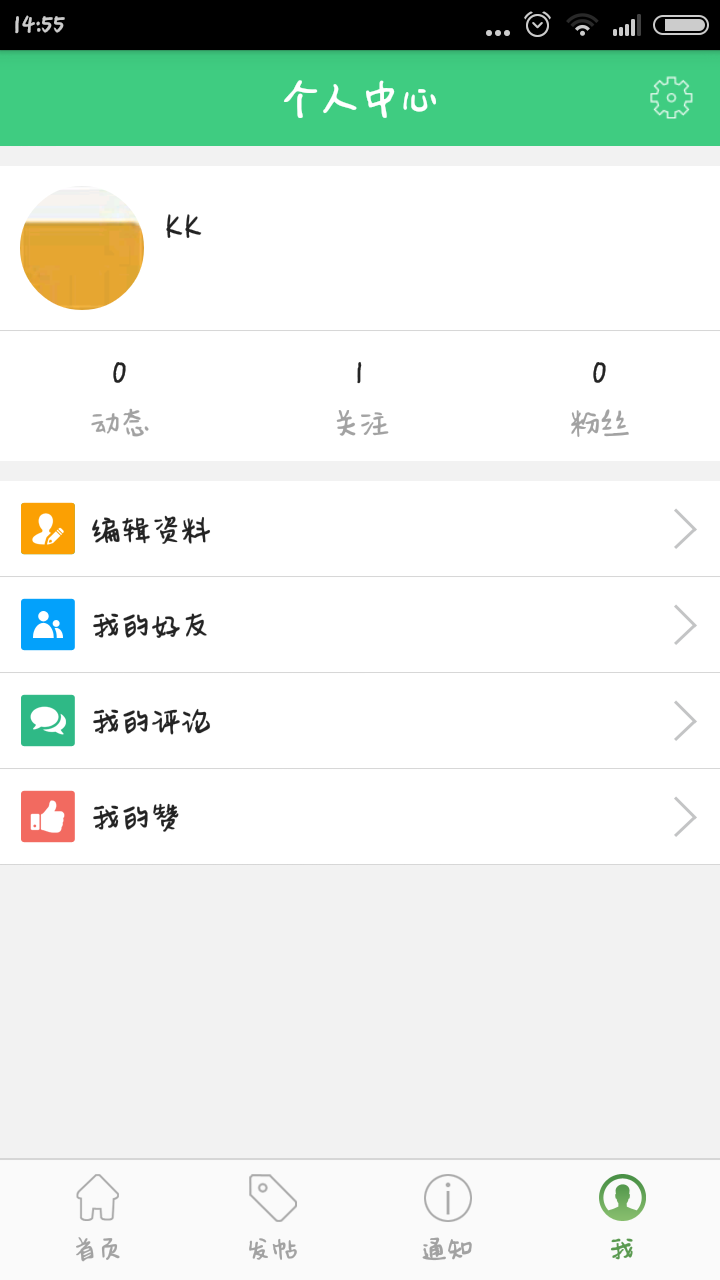imgbutton: (637, 64, 702, 129)
imgview: (10, 181, 150, 319)
nav: (9, 1152, 720, 1276)
